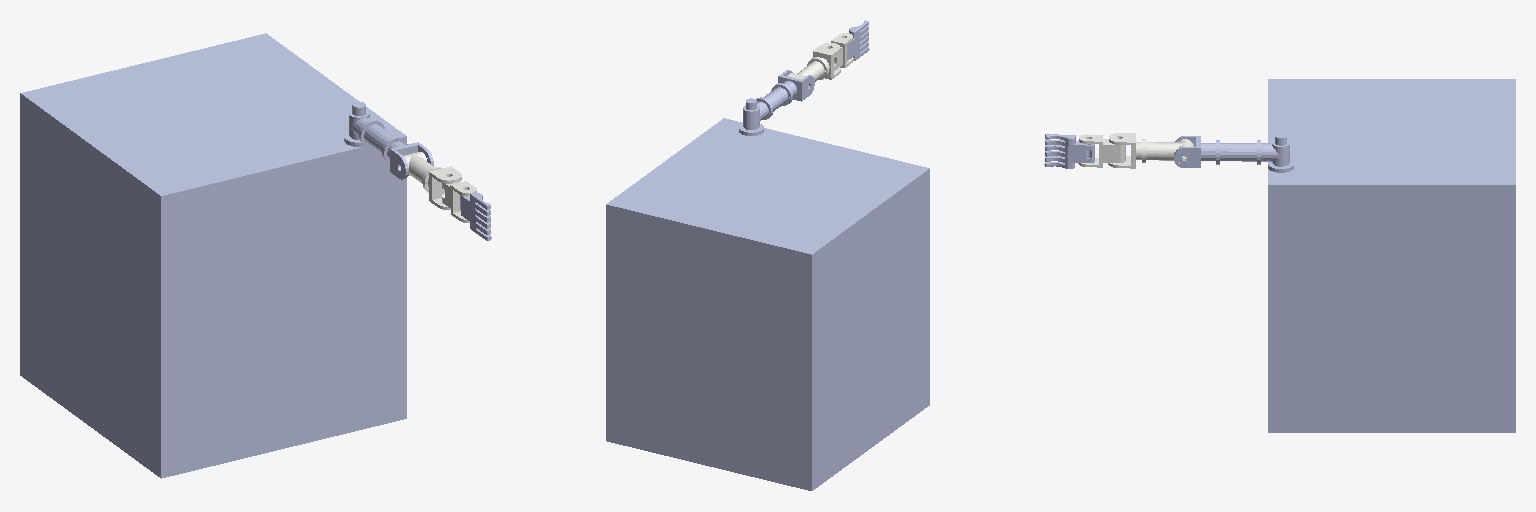
URDF robot description (horizonforce):
<?xml version="1.0" encoding="utf-8"?>
<!-- This URDF was automatically created by SolidWorks to URDF Exporter! Originally created by [author] ([email redacted]) 
     Commit Version: 1.6.0-1-g15f4949  Build Version: 1.6.7594.29634
     For more information, please see http://wiki.ros.org/sw_urdf_exporter -->
<robot
  name="horizonforce">
  <link
    name="base_link">
    <inertial>
      <origin
        xyz="0.33941 -0.54032 0.36444"
        rpy="0 0 0" />
      <mass
        value="247.35" />
      <inertia
        ixx="16.792"
        ixy="-1.2534E-17"
        ixz="-1.1221E-15"
        iyy="16.917"
        iyz="1.8332E-14"
        izz="15.209" />
    </inertial>
    <visual>
      <origin
        xyz="0 0 0"
        rpy="0 0 0" />
      <geometry>
        <mesh
          filename="package://horizonforce/meshes/base_link.STL" />
      </geometry>
      <material
        name="">
        <color
          rgba="0.79216 0.81961 0.93333 1" />
      </material>
    </visual>
    <collision>
      <origin
        xyz="0 0 0"
        rpy="0 0 0" />
      <geometry>
        <mesh
          filename="package://horizonforce/meshes/base_link.STL" />
      </geometry>
    </collision>
  </link>
  <link
    name="link1">
    <inertial>
      <origin
        xyz="0.014973 0.33223 -2.8596E-09"
        rpy="0 0 0" />
      <mass
        value="0.43373" />
      <inertia
        ixx="0.0023488"
        ixy="1.3875E-06"
        ixz="9.3909E-10"
        iyy="0.00018319"
        iyz="-8.8506E-11"
        izz="0.0023838" />
    </inertial>
    <visual>
      <origin
        xyz="0 0 0"
        rpy="0 0 0" />
      <geometry>
        <mesh
          filename="package://horizonforce/meshes/link1.STL" />
      </geometry>
      <material
        name="">
        <color
          rgba="0.79216 0.81961 0.93333 1" />
      </material>
    </visual>
    <collision>
      <origin
        xyz="0 0 0"
        rpy="0 0 0" />
      <geometry>
        <mesh
          filename="package://horizonforce/meshes/link1.STL" />
      </geometry>
    </collision>
  </link>
  <joint
    name="joint1"
    type="fixed">
    <origin
      xyz="0.53033 -0.59566 0.73931"
      rpy="-3.1416 0 -0.0046535" />
    <parent
      link="base_link" />
    <child
      link="link1" />
    <axis
      xyz="0 0 0" />
  </joint>
  <link
    name="link2">
    <inertial>
      <origin
        xyz="-0.00022622 0.075187 -0.0125"
        rpy="0 0 0" />
      <mass
        value="0.32435" />
      <inertia
        ixx="0.00037151"
        ixy="-2.8054E-06"
        ixz="-5.1364E-10"
        iyy="0.00015095"
        iyz="8.2392E-10"
        izz="0.00040236" />
    </inertial>
    <visual>
      <origin
        xyz="0 0 0"
        rpy="0 0 0" />
      <geometry>
        <mesh
          filename="package://horizonforce/meshes/link2.STL" />
      </geometry>
      <material
        name="">
        <color
          rgba="0.96078 0.96078 0.94902 1" />
      </material>
    </visual>
    <collision>
      <origin
        xyz="0 0 0"
        rpy="0 0 0" />
      <geometry>
        <mesh
          filename="package://horizonforce/meshes/link2.STL" />
      </geometry>
    </collision>
  </link>
  <joint
    name="joint2"
    type="revolute">
    <origin
      xyz="0 0.45 0"
      rpy="-1.5708 -1.5527 1.5708" />
    <parent
      link="link1" />
    <child
      link="link2" />
    <axis
      xyz="0 0 1" />
    <limit
      lower="-0.7854"
      upper="0.7854"
      effort="0"
      velocity="0" />
  </joint>
  <link
    name="link3">
    <inertial>
      <origin
        xyz="-0.034259 3.8013E-05 0.0024758"
        rpy="0 0 0" />
      <mass
        value="0.12179" />
      <inertia
        ixx="6.3147E-05"
        ixy="-1.6046E-06"
        ixz="-1.2006E-07"
        iyy="0.00013445"
        iyz="-1.4847E-09"
        izz="9.6578E-05" />
    </inertial>
    <visual>
      <origin
        xyz="0 0 0"
        rpy="0 0 0" />
      <geometry>
        <mesh
          filename="package://horizonforce/meshes/link3.STL" />
      </geometry>
      <material
        name="">
        <color
          rgba="0.96078 0.96078 0.94902 1" />
      </material>
    </visual>
    <collision>
      <origin
        xyz="0 0 0"
        rpy="0 0 0" />
      <geometry>
        <mesh
          filename="package://horizonforce/meshes/link3.STL" />
      </geometry>
    </collision>
  </link>
  <joint
    name="joint3"
    type="revolute">
    <origin
      xyz="0 0.16 -0.0125"
      rpy="-1.5708 -0.0054927 -1.5708" />
    <parent
      link="link2" />
    <child
      link="link3" />
    <axis
      xyz="0 0 1" />
    <limit
      lower="-0.7854"
      upper="0.7854"
      effort="0"
      velocity="0" />
  </joint>
  <link
    name="link4">
    <inertial>
      <origin
        xyz="-0.0018508 0.043793 0.0063844"
        rpy="0 0 0" />
      <mass
        value="0.11343" />
      <inertia
        ixx="0.00015269"
        ixy="6.3432E-06"
        ixz="1.6637E-08"
        iyy="5.7464E-05"
        iyz="-4.5966E-08"
        izz="0.00010402" />
    </inertial>
    <visual>
      <origin
        xyz="0 0 0"
        rpy="0 0 0" />
      <geometry>
        <mesh
          filename="package://horizonforce/meshes/link4.STL" />
      </geometry>
      <material
        name="">
        <color
          rgba="0.79216 0.81961 0.93333 1" />
      </material>
    </visual>
    <collision>
      <origin
        xyz="0 0 0"
        rpy="0 0 0" />
      <geometry>
        <mesh
          filename="package://horizonforce/meshes/link4.STL" />
      </geometry>
    </collision>
  </link>
  <joint
    name="joint4"
    type="revolute">
    <origin
      xyz="-0.075 -0.0004747 0"
      rpy="0 -0.0013254 1.5758" />
    <parent
      link="link3" />
    <child
      link="link4" />
    <axis
      xyz="0 0 1" />
    <limit
      lower="-0.7854"
      upper="0.7854"
      effort="0"
      velocity="0" />
  </joint>
</robot>

--- Facts derived from the render (not from the file) ---
The picture shows the robot from 3 angles, left to right: view 1: azimuth 30°, elevation 25°; view 2: azimuth 150°, elevation 25°; view 3: azimuth 270°, elevation 25°; orthographic projection.
Robot: horizonforce — 5 links, 4 joints (3 revolute, 1 fixed); root link base_link; default pose: every joint at zero.
Links seen in each view (by area): view 1: base_link, link1, link2, link4, link3; view 2: base_link, link1, link2, link4; view 3: base_link, link1, link2, link4, link3.
Boxes of the visible links, x1,y1,x2,y2 form: base_link: (20,33,406,478); link1: (349,110,433,179); link2: (404,152,461,209); link4: (460,193,491,240); link3: (442,181,476,222); base_link: (606,98,929,490); link1: (743,70,814,128); link2: (788,43,840,81); link4: (847,20,869,60); base_link: (1268,79,1515,432); link1: (1174,136,1289,167); link2: (1108,133,1193,168); link4: (1044,134,1094,168); link3: (1078,134,1125,167).
Bounding box of the posed robot: 0.61 × 1.15 × 0.755 m (x, y, z).
Meshes: 5 distinct files referenced, 5 mesh visuals loaded (5 binary STL).